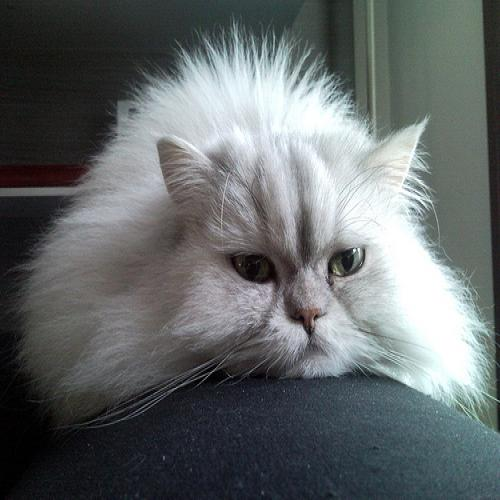persian: (150, 116, 453, 401)
